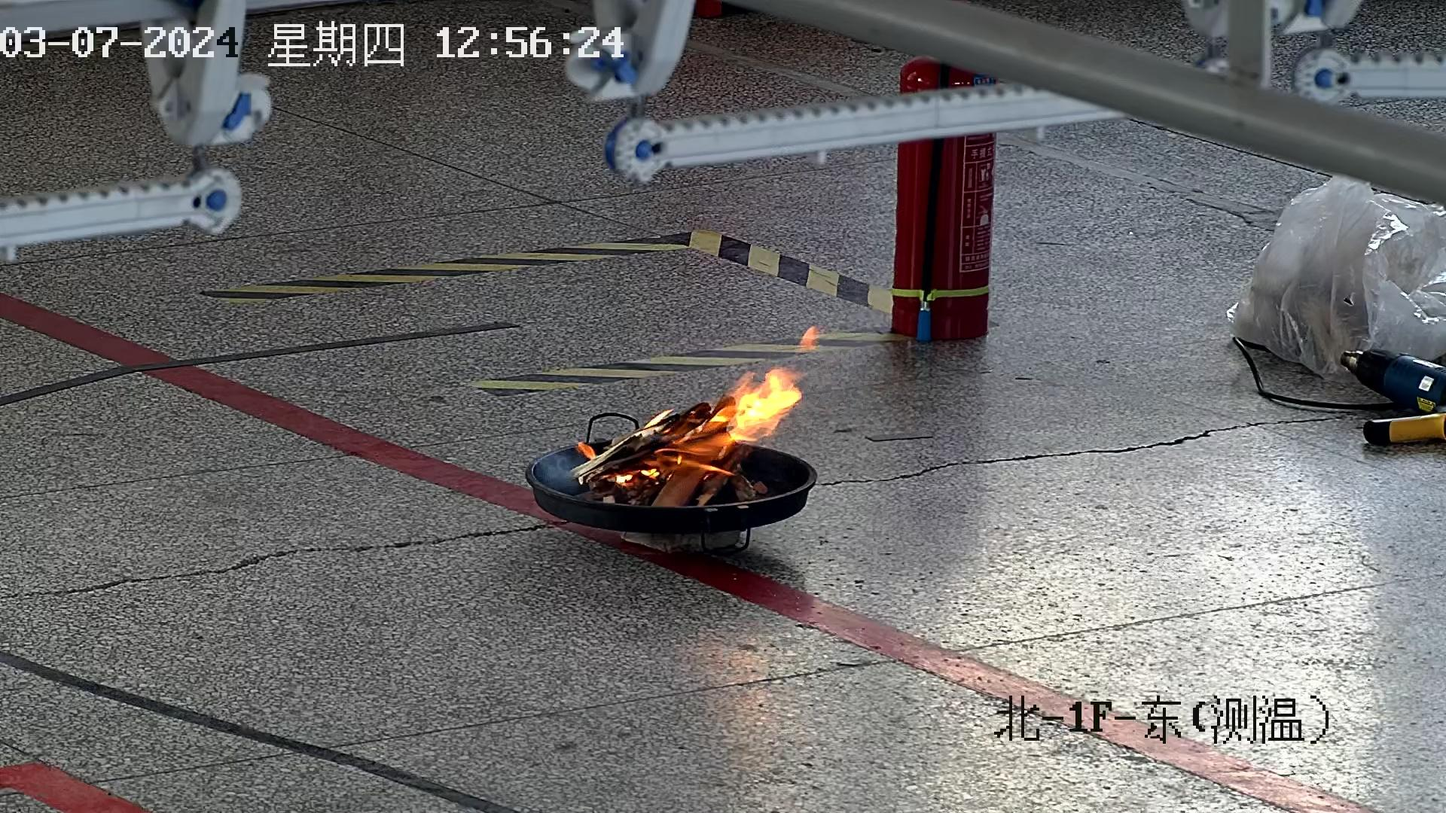fire: (572, 369, 801, 504)
